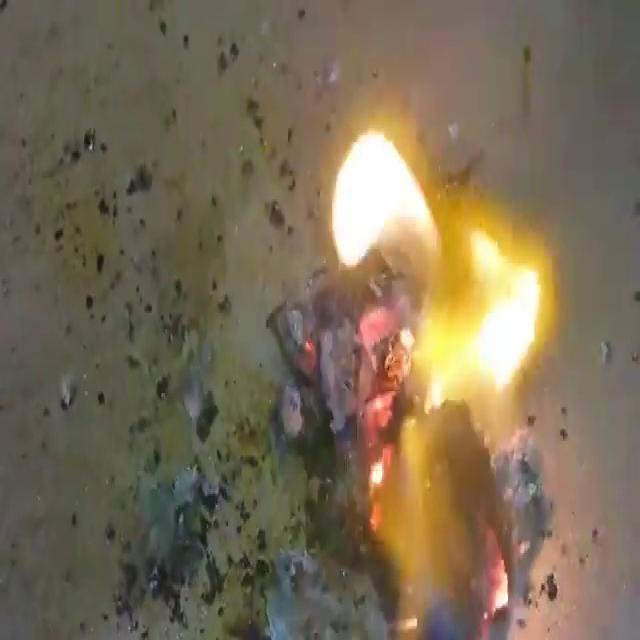Fire: (312, 130, 578, 636)
